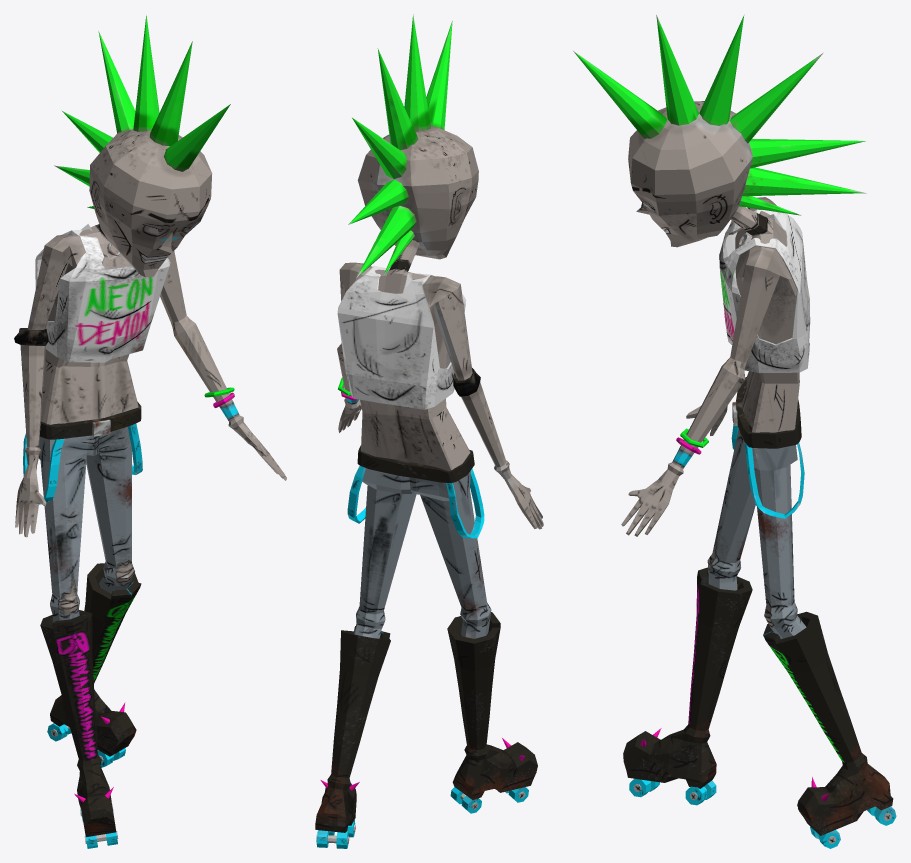
File: punkAnimation_000161.obj
3 views of the same model, side by side, from view 1: azimuth 30°, elevation 25°; view 2: azimuth 150°, elevation 25°; view 3: azimuth 270°, elevation 25° (orthographic). The views are drawn at different scales.
Visible parts, largest first — view 1: Cube.004_Cube.003; view 2: Cube.004_Cube.003; view 3: Cube.004_Cube.003.
Part boxes in pixels (x1,y1,x2,y2): Cube.004_Cube.003: (14,15,286,848); Cube.004_Cube.003: (315,14,543,848); Cube.004_Cube.003: (573,15,896,848).
Bounding box in the file's own units: 2.33 × 7.39 × 2.62.
